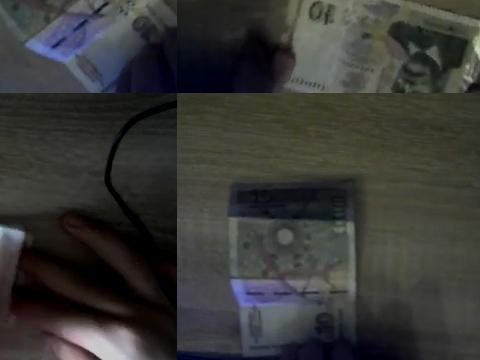10leva: (226, 182, 355, 356), (287, 0, 480, 93)
5leva: (0, 222, 27, 327)
